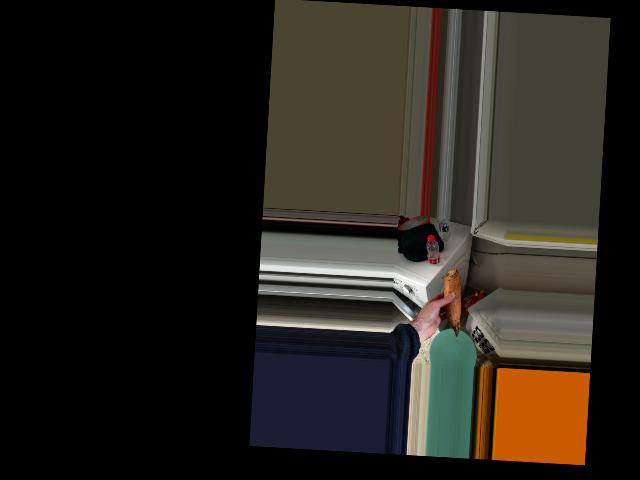sweet_potato: (436, 264, 468, 338)
